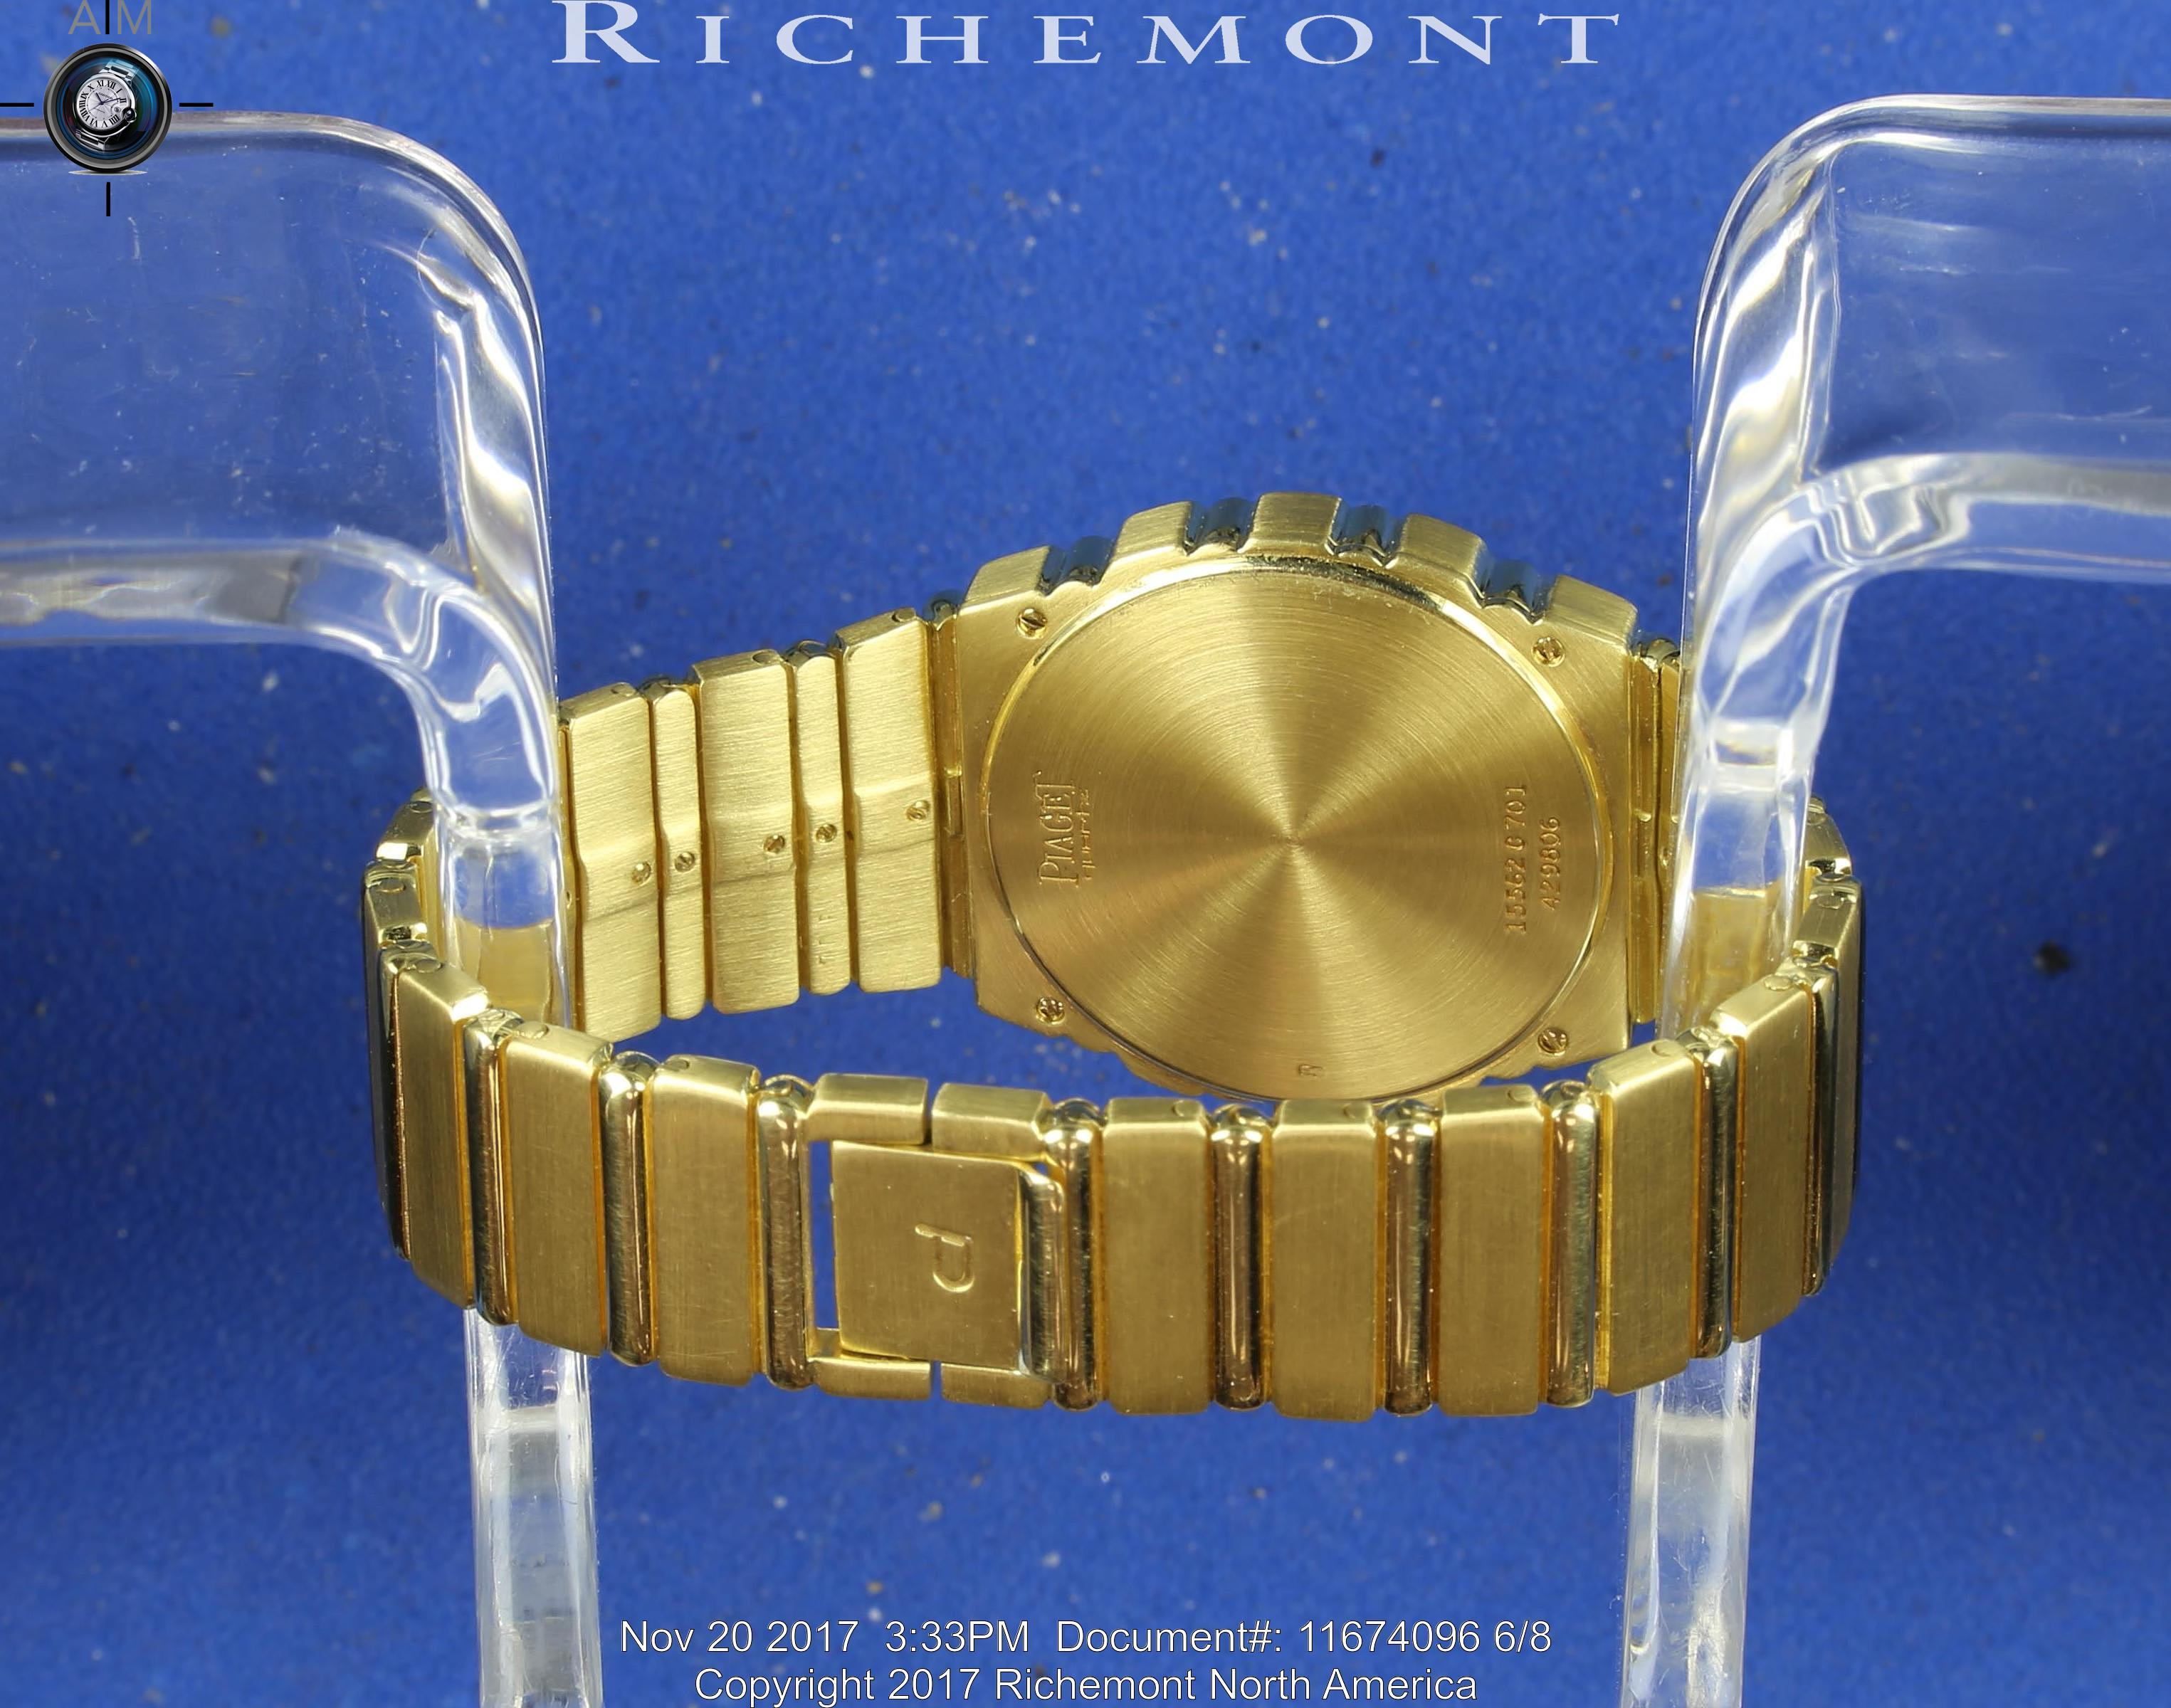Watch BackCase: (948, 479, 1655, 1084)
